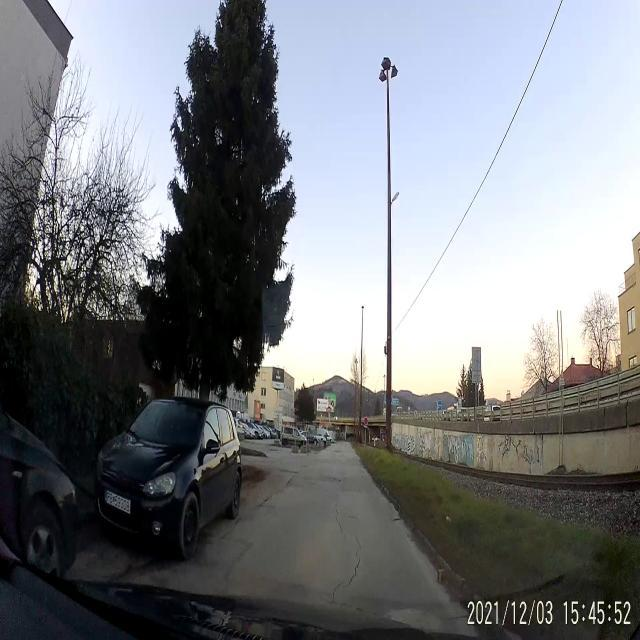Pothole: (324, 463, 344, 488)
